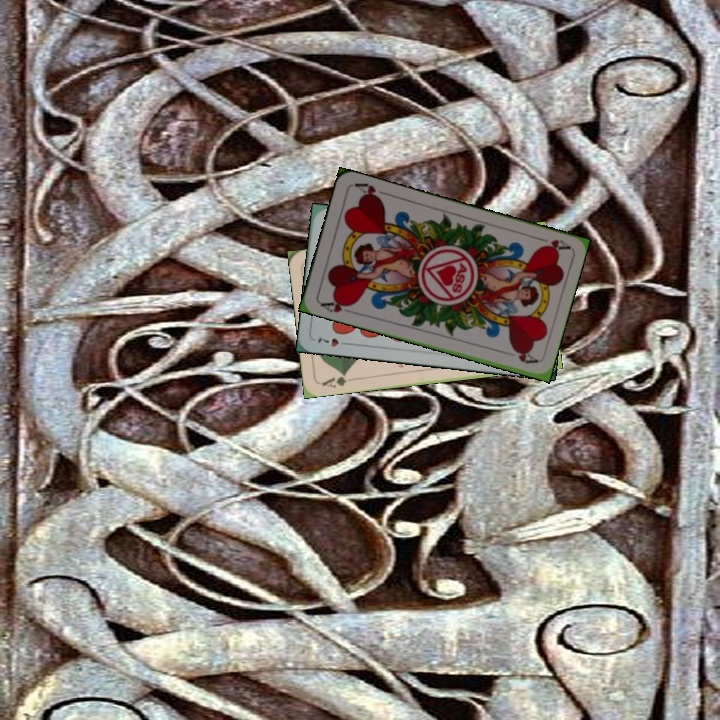GA: (318, 369, 358, 390)
H7: (314, 334, 353, 349)
HA: (316, 295, 357, 316), (531, 233, 571, 254)
